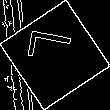L_E: (27, 35, 83, 75)
